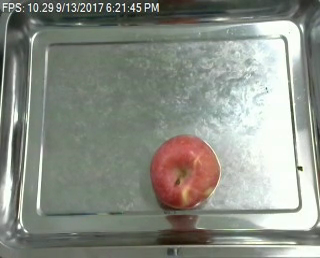Apple: (147, 133, 221, 213)
